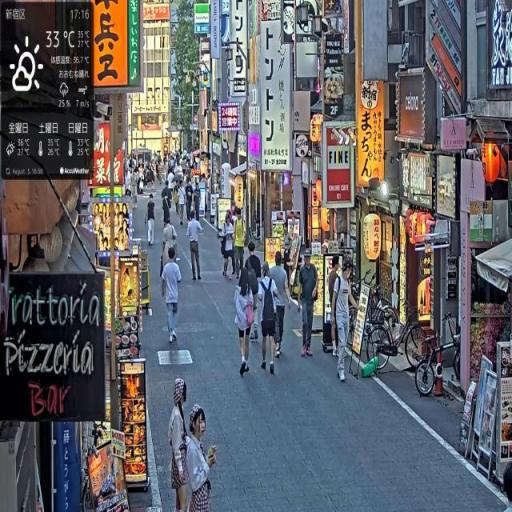person: (184, 402, 219, 511), (169, 379, 191, 512), (296, 249, 320, 360), (258, 260, 280, 376), (271, 252, 292, 365), (242, 241, 263, 348), (235, 273, 256, 376), (163, 246, 183, 347), (188, 211, 205, 286), (222, 212, 236, 281), (234, 211, 247, 282), (146, 192, 157, 247)
